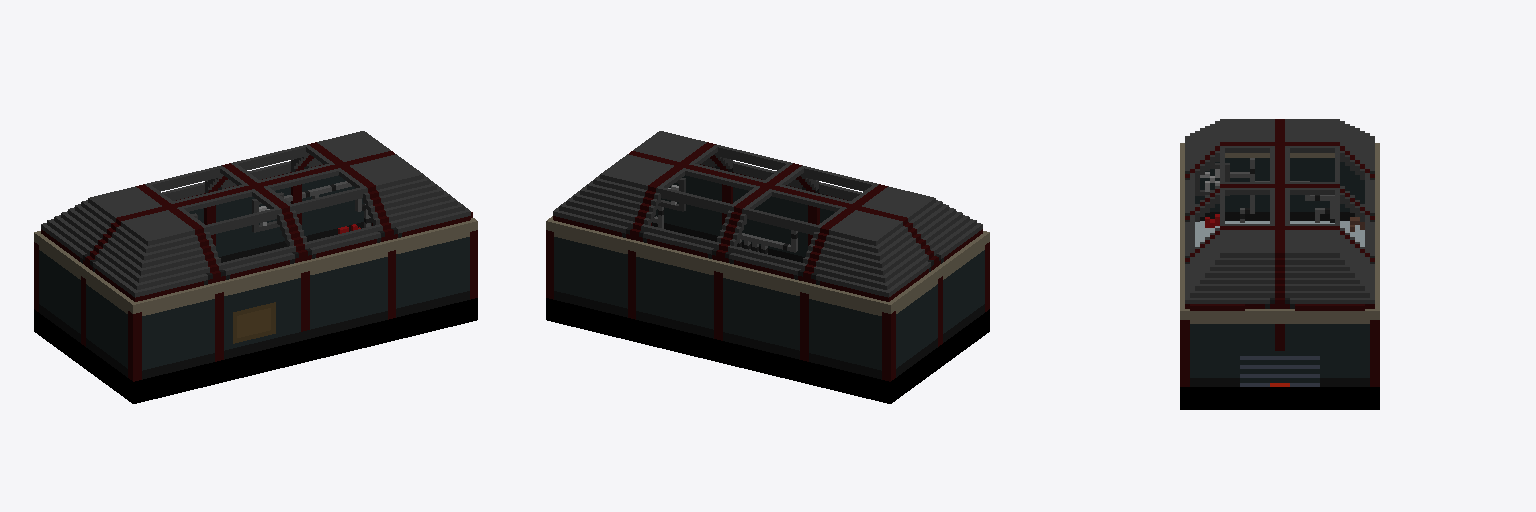
3 views of the same model, side by side, from view 1: azimuth 30°, elevation 25°; view 2: azimuth 150°, elevation 25°; view 3: azimuth 270°, elevation 25° (orthographic).
Visible parts, largest first — view 1: object 1; view 2: object 1; view 3: object 1.
Boxes of the visible parts, x1=… form: object 1: x1=34, y1=131, x2=477, y2=403; object 1: x1=546, y1=131, x2=989, y2=403; object 1: x1=1180, y1=119, x2=1379, y2=409.
Size of the model in its own units: 8 by 3.1 by 4.
Materials: 1 (1 with a texture image).